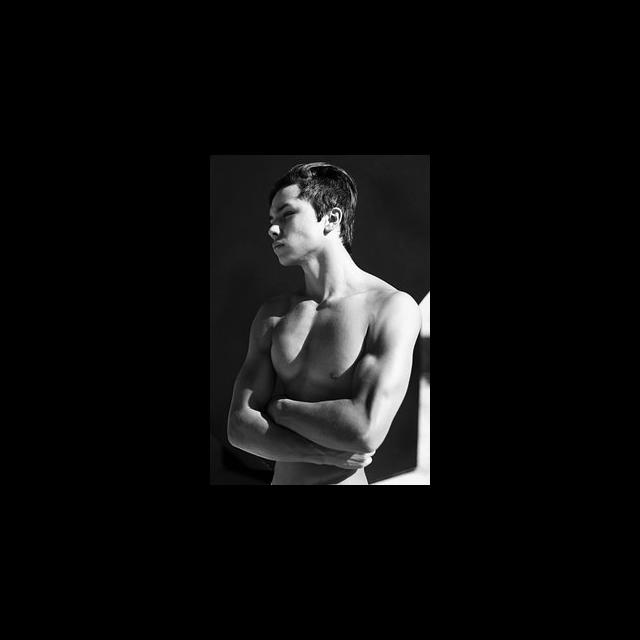male: (254, 160, 362, 271)
